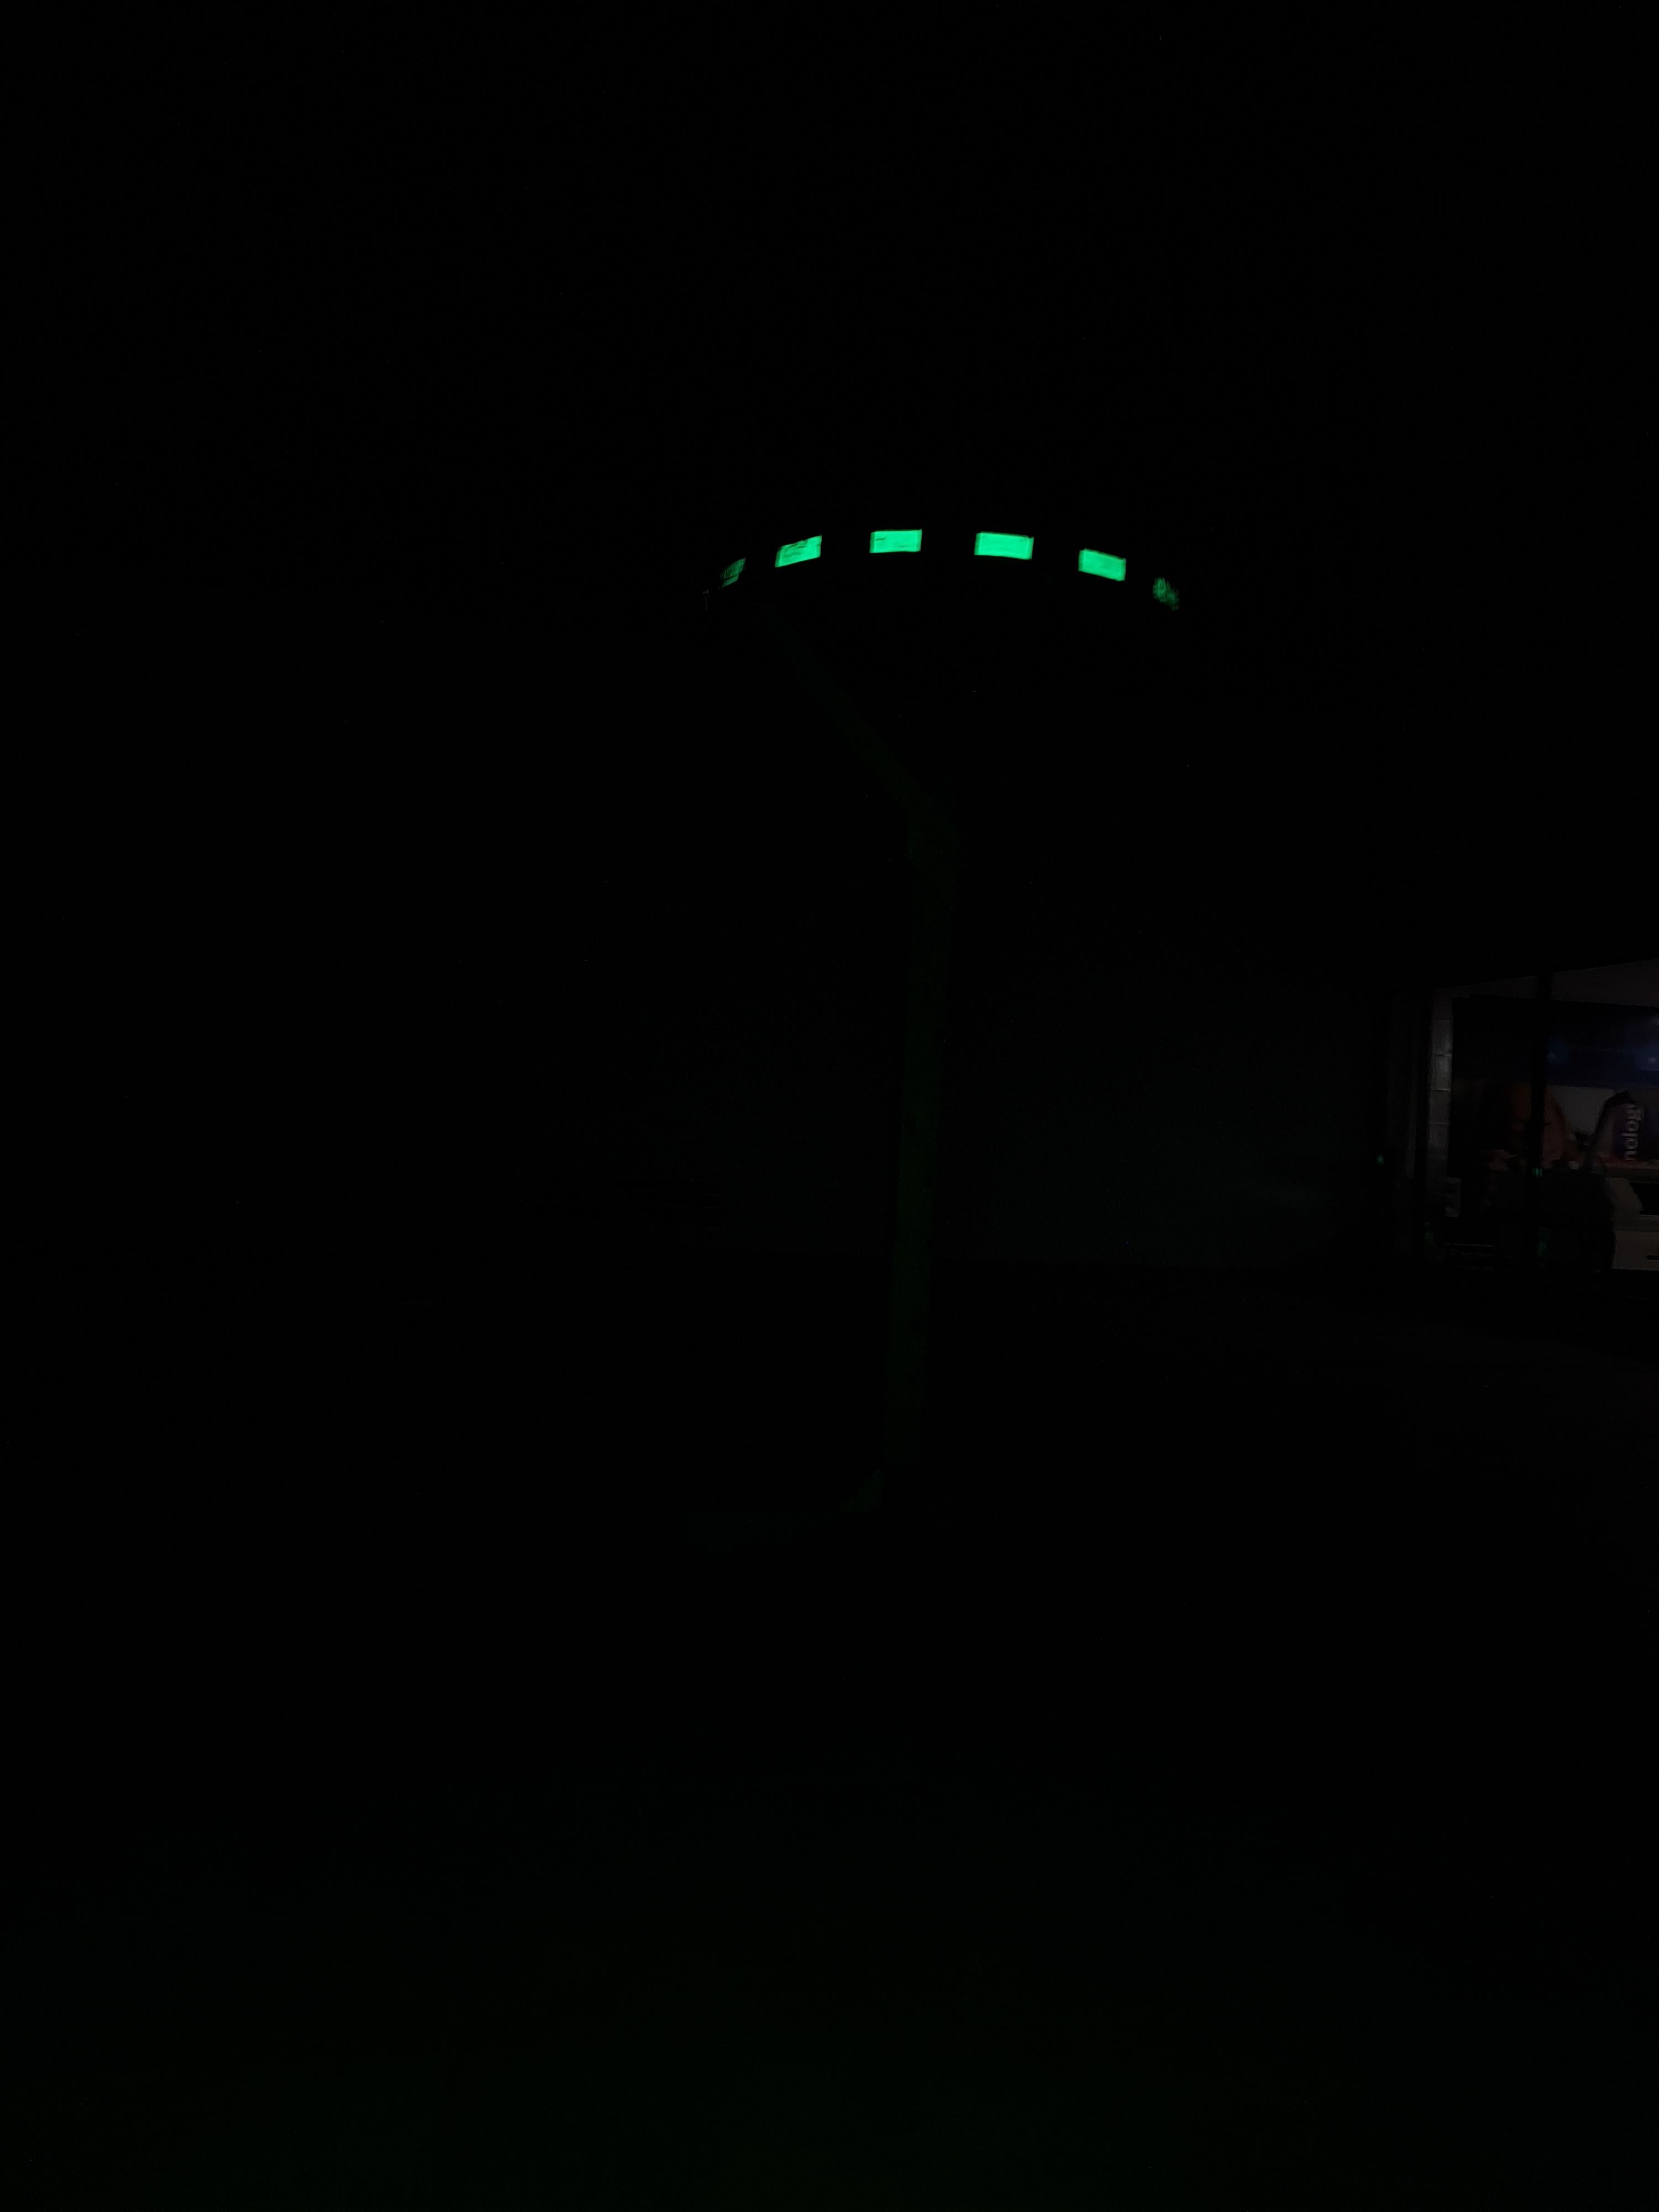hoop: (680, 495, 1211, 651)
